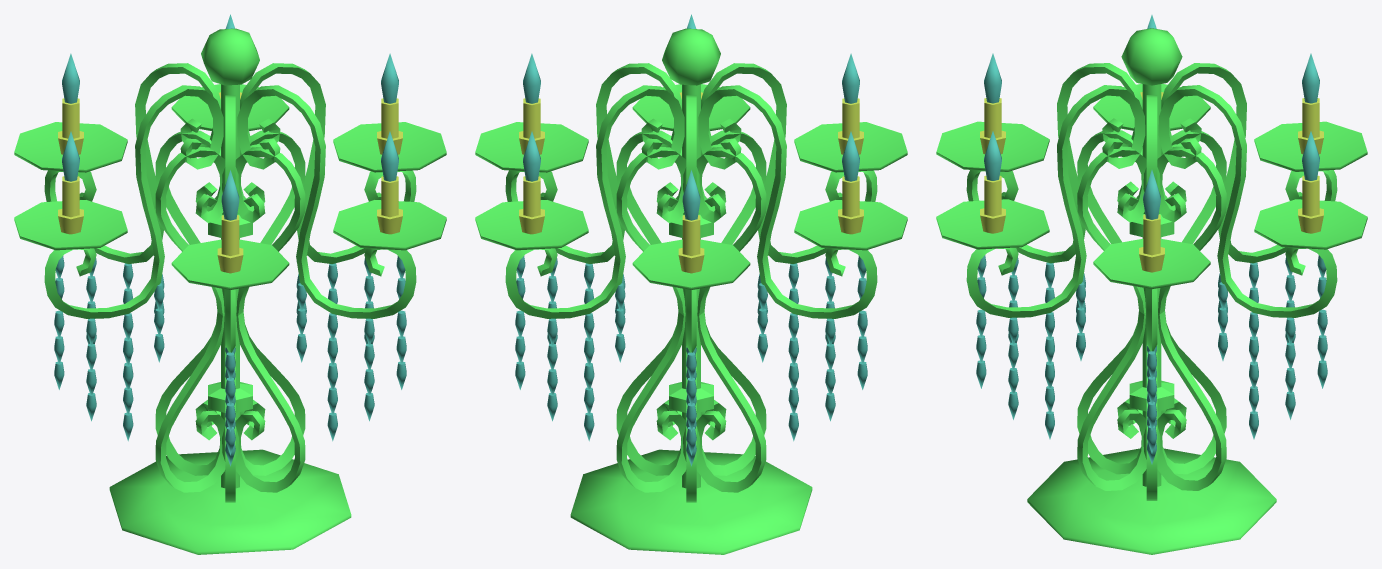
Rendered from SM_Chandellier.FBX.
3 renders of one model, left to right at view 1: azimuth 30°, elevation 25°; view 2: azimuth 150°, elevation 25°; view 3: azimuth 270°, elevation 25°, orthographic.
Parts seen in each view (by area): view 1: Sphere001; view 2: Sphere001; view 3: Sphere001.
Boxes of the visible parts, x1,y1,x2,y2 form: Sphere001: [14, 14, 446, 554]; Sphere001: [475, 14, 907, 554]; Sphere001: [936, 15, 1367, 554].
Bounding box in the file's own units: 46.18 × 49.78 × 41.11.
